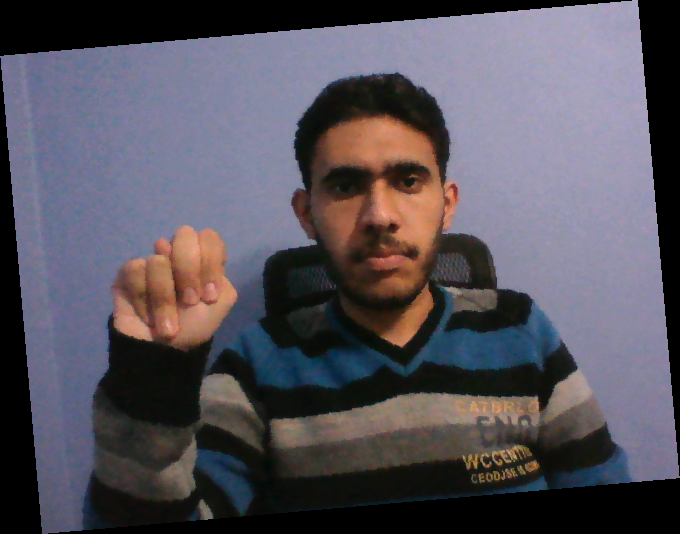N: (103, 228, 243, 354)
